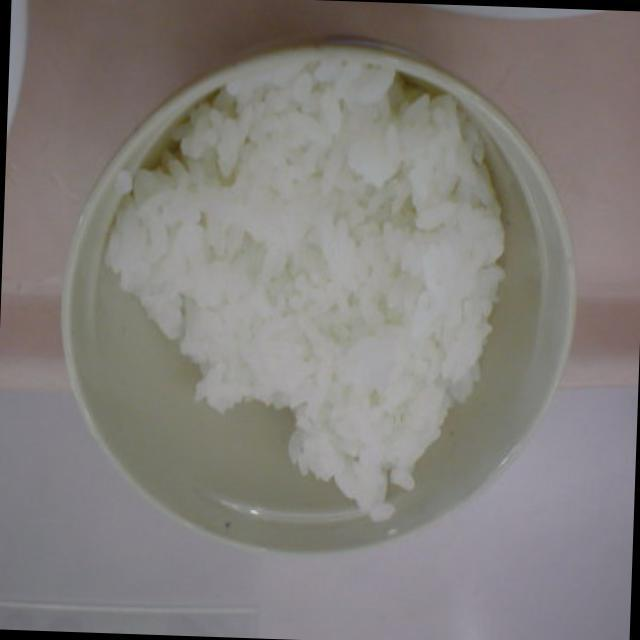Rice: (110, 88, 518, 528)
